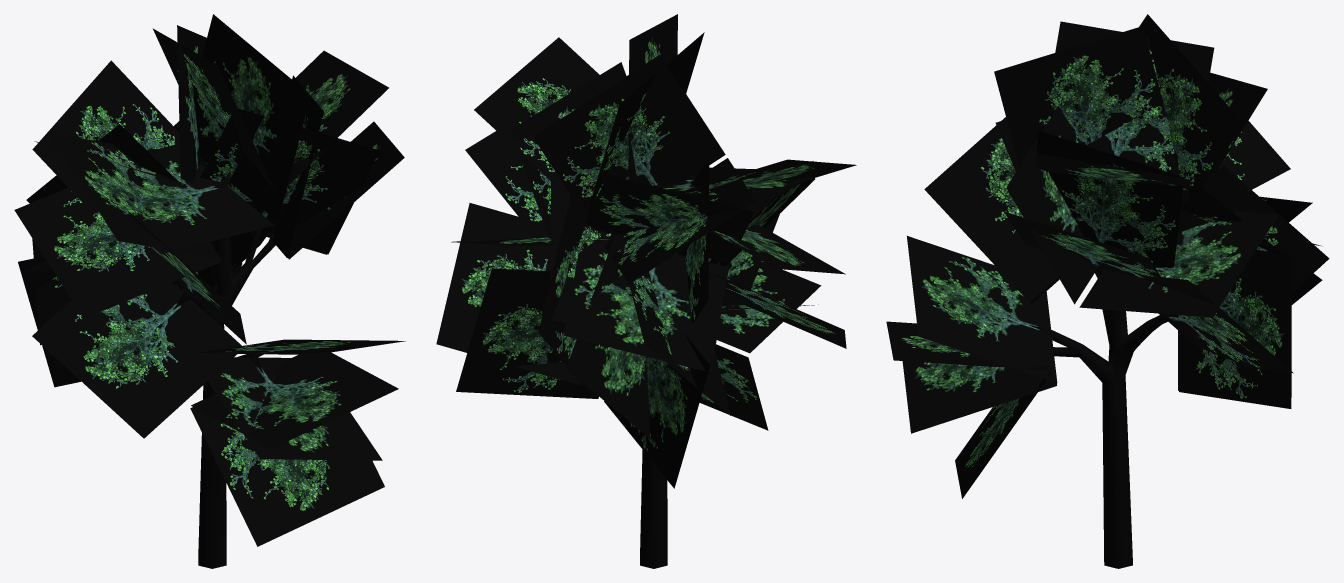
The model's file is tree69.glb.
3 renders of one model, left to right at view 1: azimuth 30°, elevation 25°; view 2: azimuth 150°, elevation 25°; view 3: azimuth 270°, elevation 25°, orthographic. The views are drawn at different scales.
Bounding box in the file's own units: 4.89 × 6.89 × 5.1.
Materials: 2 (1 with a texture image).
